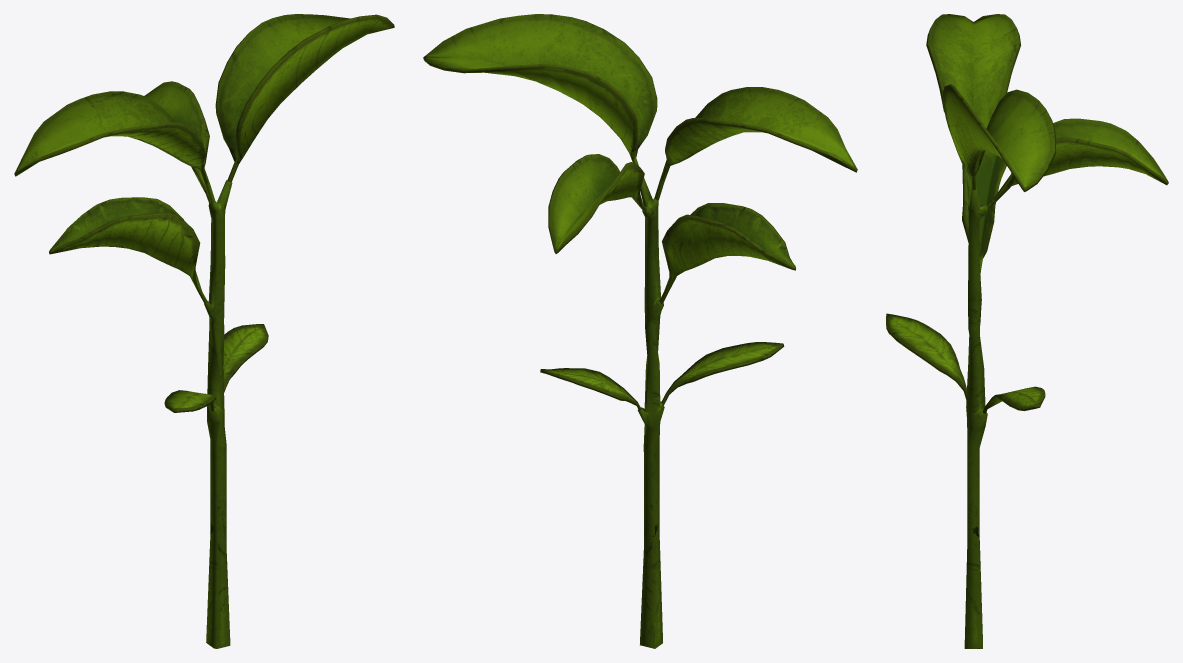
The model's file is treesapling.glb.
3 views of the same model, side by side, from view 1: azimuth 30°, elevation 25°; view 2: azimuth 150°, elevation 25°; view 3: azimuth 270°, elevation 25° (orthographic).
Parts seen in each view (by area): view 1: Sm_Sapling_01; view 2: Sm_Sapling_01; view 3: Sm_Sapling_01.
Part boxes in pixels (box(x1,y1,x2,y2)): Sm_Sapling_01: box(14, 14, 394, 648); Sm_Sapling_01: box(423, 14, 857, 648); Sm_Sapling_01: box(886, 14, 1168, 648).
Bounding box in the file's own units: 136 × 191 × 81.97.
Materials: 1 (1 with a texture image).
